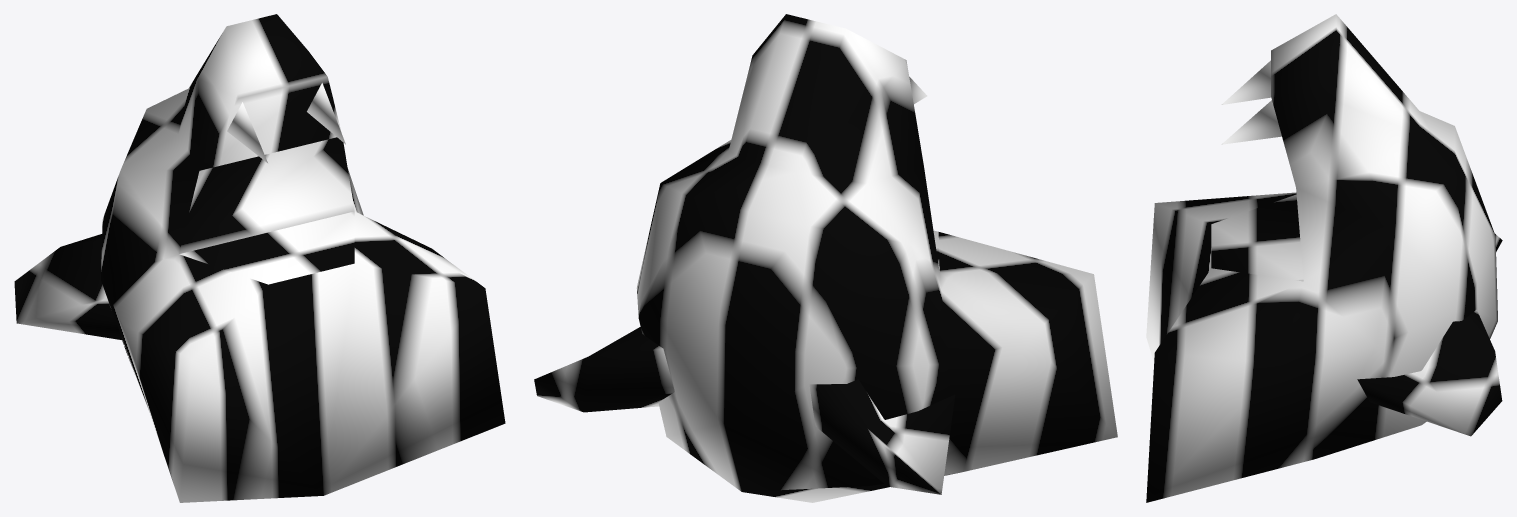
Rendered from initarhl4.dae.
The picture shows the model from 3 angles, left to right: view 1: azimuth 30°, elevation 25°; view 2: azimuth 150°, elevation 25°; view 3: azimuth 270°, elevation 25°; orthographic projection. The views are drawn at different scales.
Parts seen in each view (by area): view 1: armor; view 2: armor; view 3: armor.
Part boxes in pixels (box(x1,y1,x2,y2)): armor: box(14, 14, 505, 502); armor: box(534, 14, 1117, 502); armor: box(1146, 14, 1502, 502).
Size of the model in its own units: 1.06 by 0.9209 by 1.26.
Materials: 1 (1 with a texture image).
